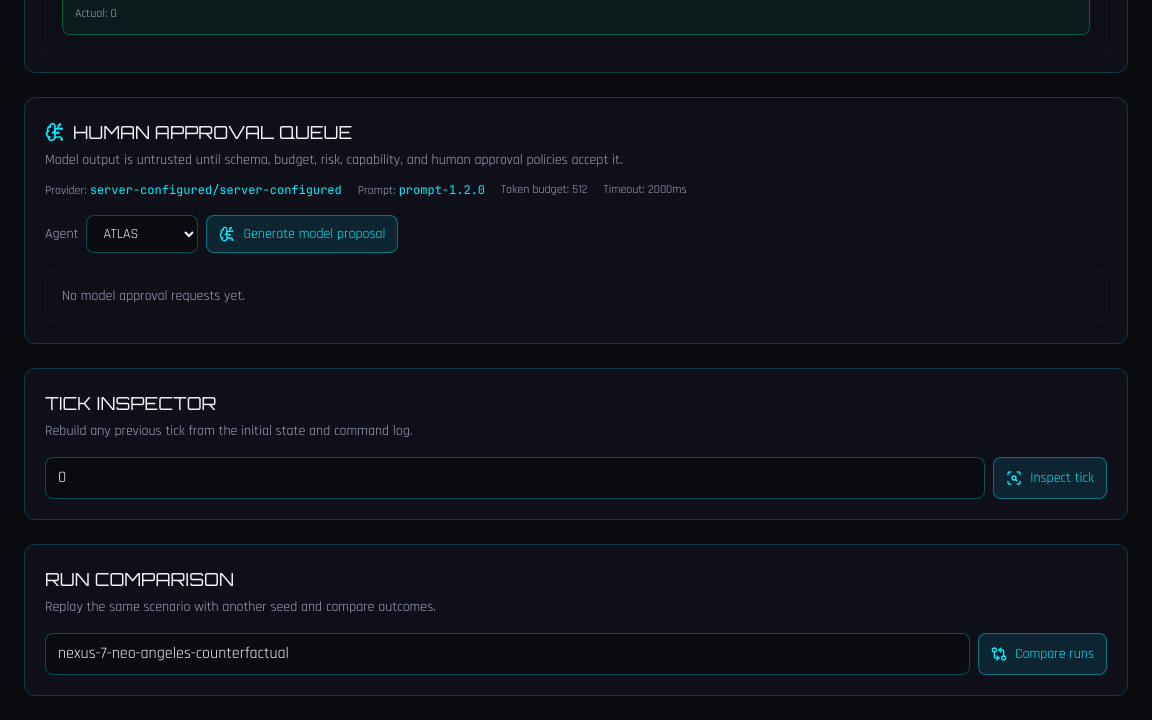
Test: ObserverDashboard › reconstructs a historical tick and compares a counterfactual run
(page scrolled)
Replace the text in the number field named "Tick to inspect" with "10". click: (515, 478)
box: x1=45 y1=457 x2=985 y2=499
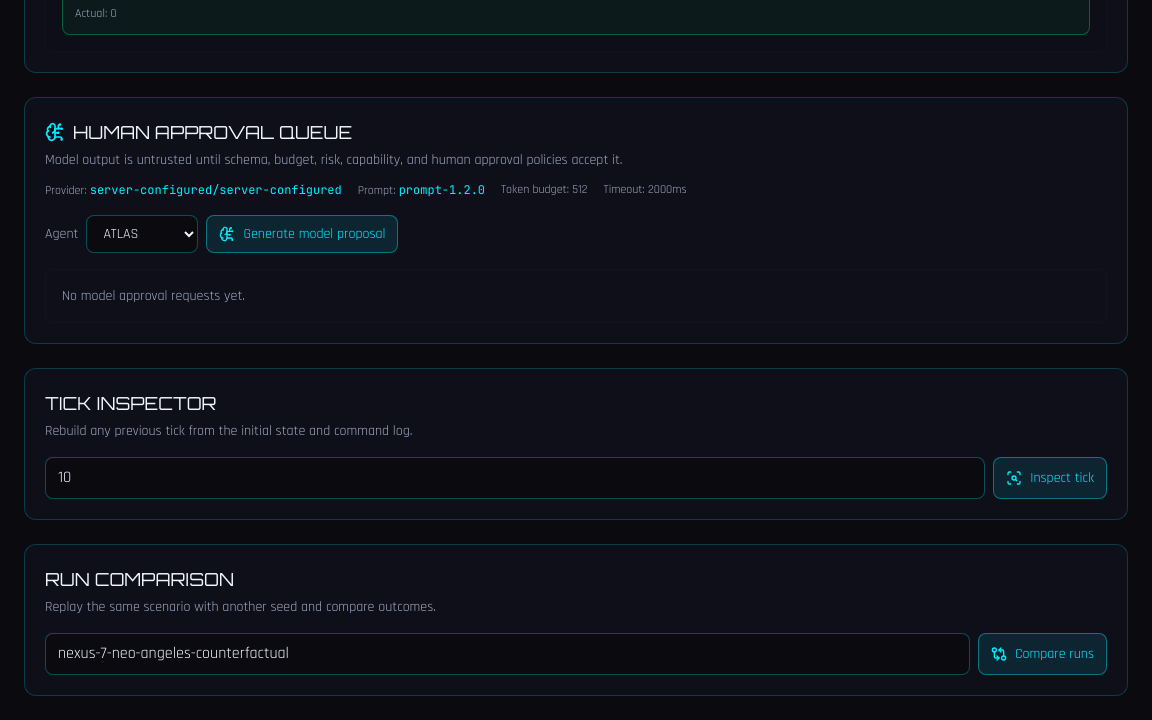
Click the button "Inspect tick". click: click(1050, 478)
box: x1=993 y1=457 x2=1107 y2=499
(page scrolled)
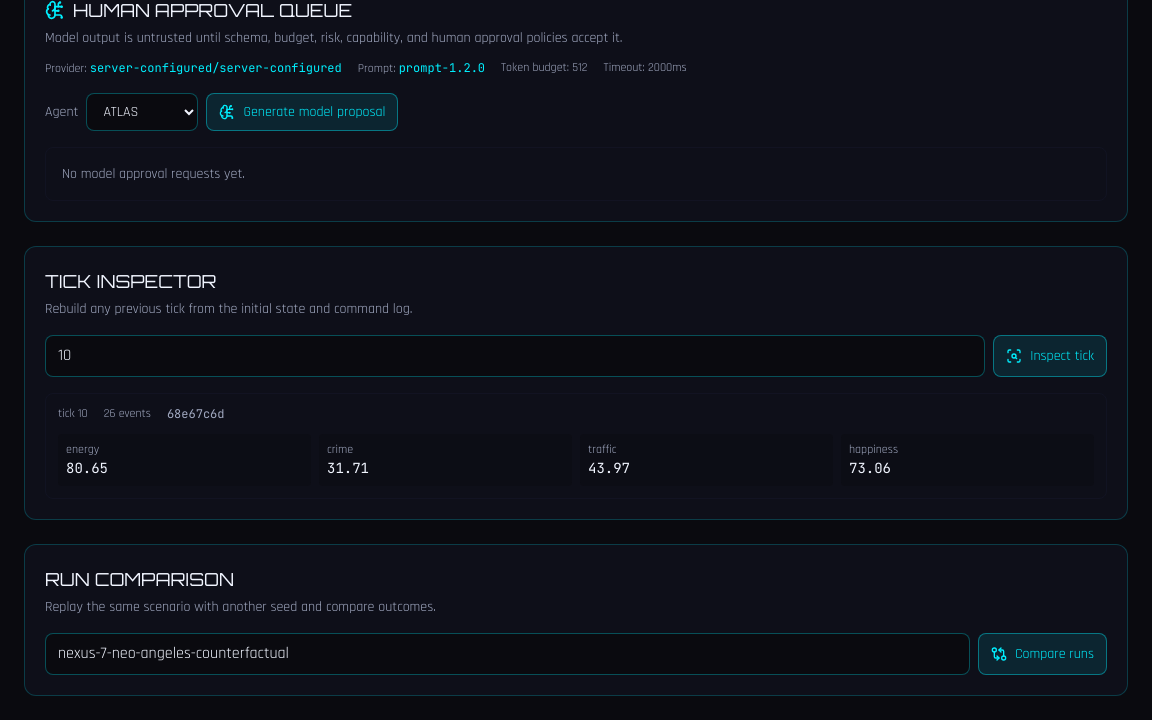
Check: the element with test id "tick-inspection" shows "tick 10", box x1=45 y1=393 x2=1107 y2=499
Click the button "Compare runs". click: click(1042, 654)
box: x1=978 y1=633 x2=1107 y2=675
(page scrolled)
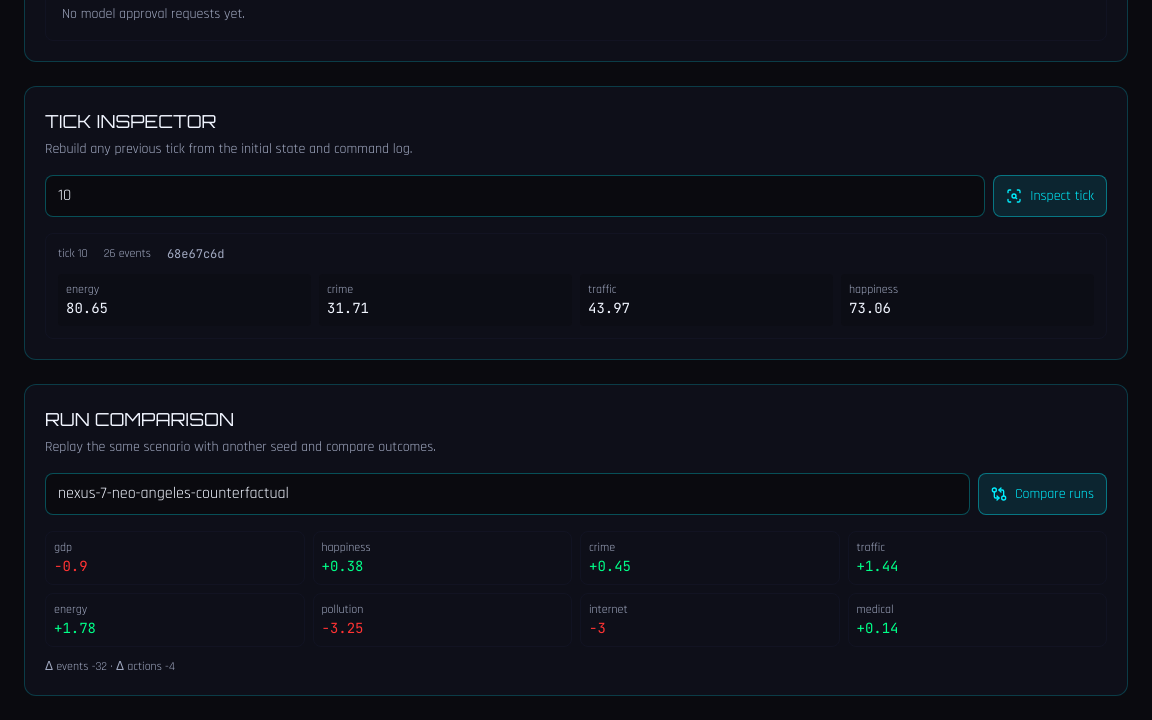
Check: the element with test id "run-comparison" shows "Δ events", box x1=45 y1=659 x2=92 y2=674
